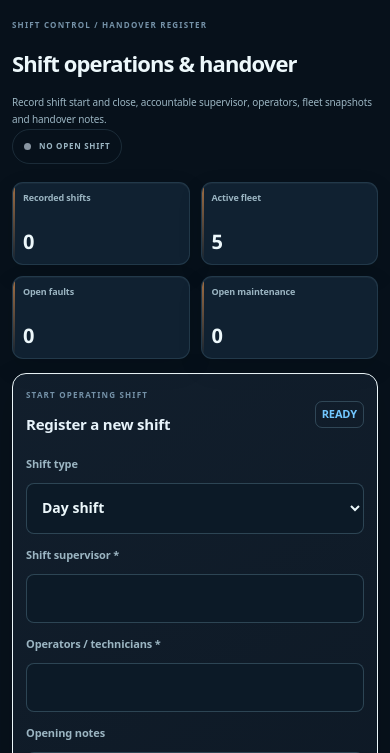
Scenario: Shift operations and handover › starts one shift with a snapshot of the fleet and open work
In the field labelled "Shift supervisor *": x=195, y=598 top-left (26, 574), bottom-right (364, 623), type "Shift Lead"
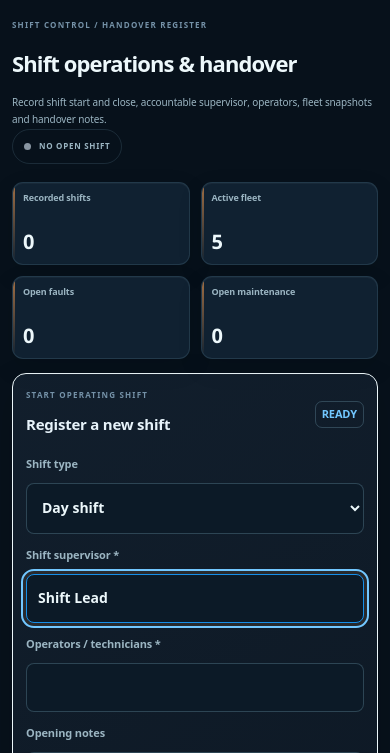
In the field labelled "Operators / technicians *": x=195, y=688 top-left (26, 663), bottom-right (364, 712), type "Operator A"
(page scrolled)
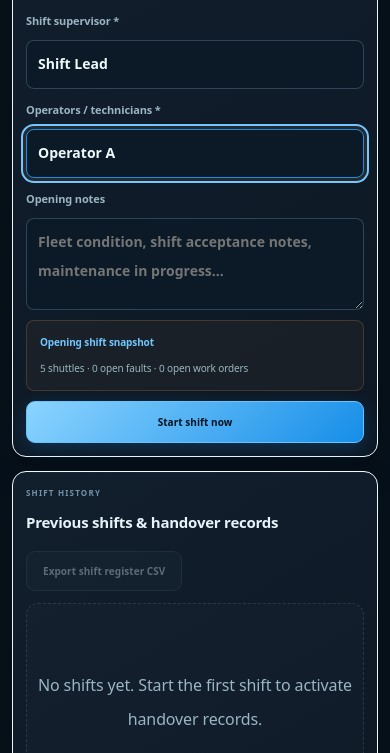
Click the button "Start shift now": x=195, y=422 top-left (26, 401), bottom-right (364, 443)
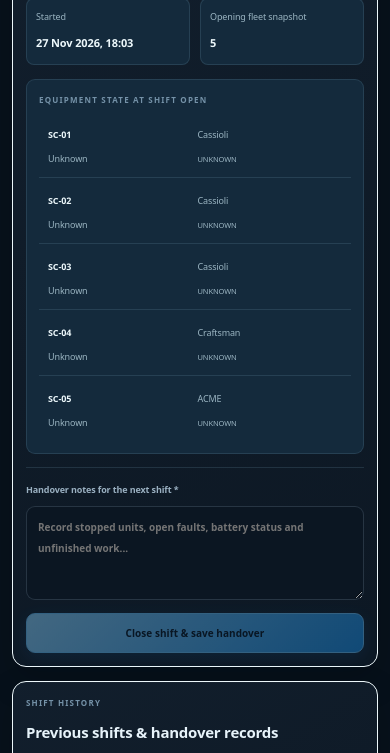
Now the text "SC-01" is shown, box top-left (48, 126), bottom-right (71, 145)
Now the text "Opening fleet snapshot" is shown, box top-left (210, 8), bottom-right (306, 27)
Now the button "Close shift & save handover" is disabled, box top-left (26, 613), bottom-right (364, 653)
